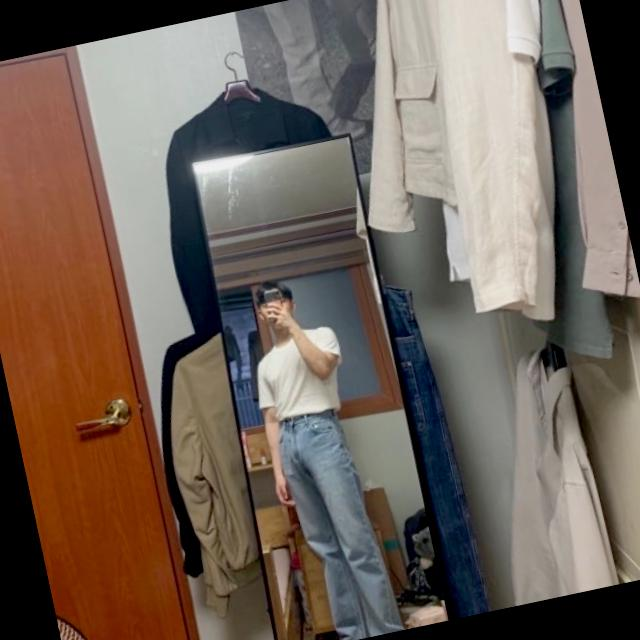denimpants: (274, 405, 405, 640)
shortsleeve: (244, 320, 350, 428)
